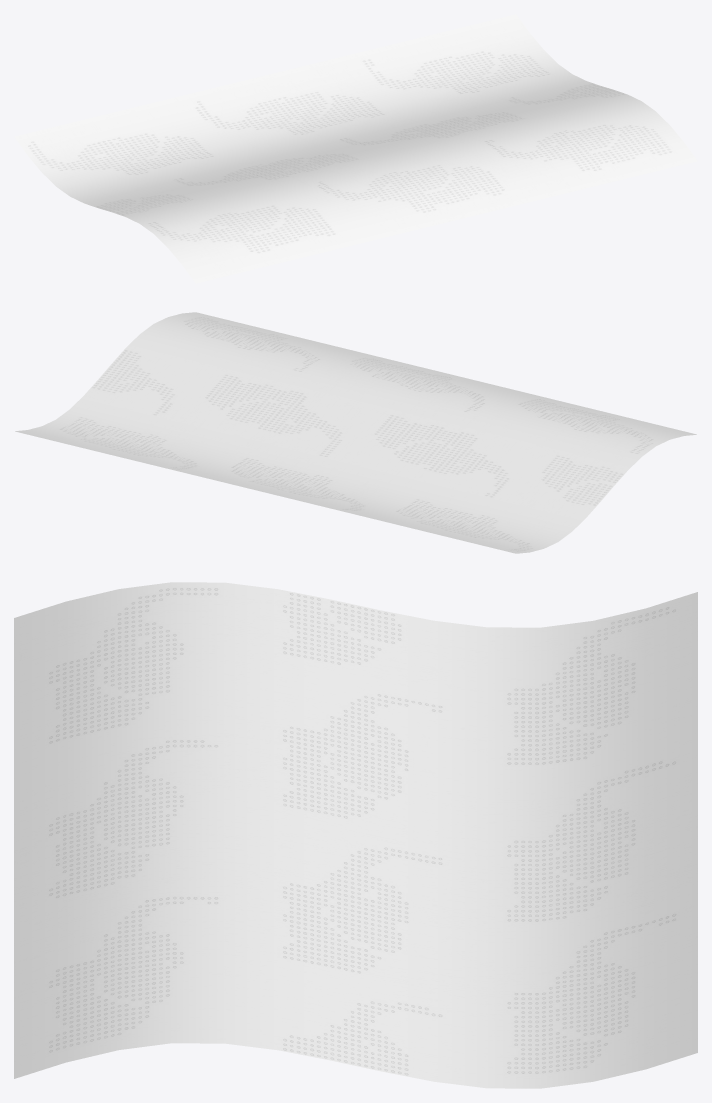
Rendered from paper.fbx.
3 views of the same model, one above another, from view 1: azimuth 30°, elevation 25°; view 2: azimuth 150°, elevation 25°; view 3: azimuth 270°, elevation 25° (orthographic). The views are drawn at different scales.
Visible parts, largest first — view 1: Plane; view 2: Plane; view 3: Plane.
Part boxes in pixels (box(x1,y1,x2,y2)): Plane: box(14, 14, 697, 283); Plane: box(15, 312, 696, 553); Plane: box(14, 582, 697, 1088).
Size of the model in its own units: 325 by 14.95 by 204.
Materials: 1 (1 with a texture image).
